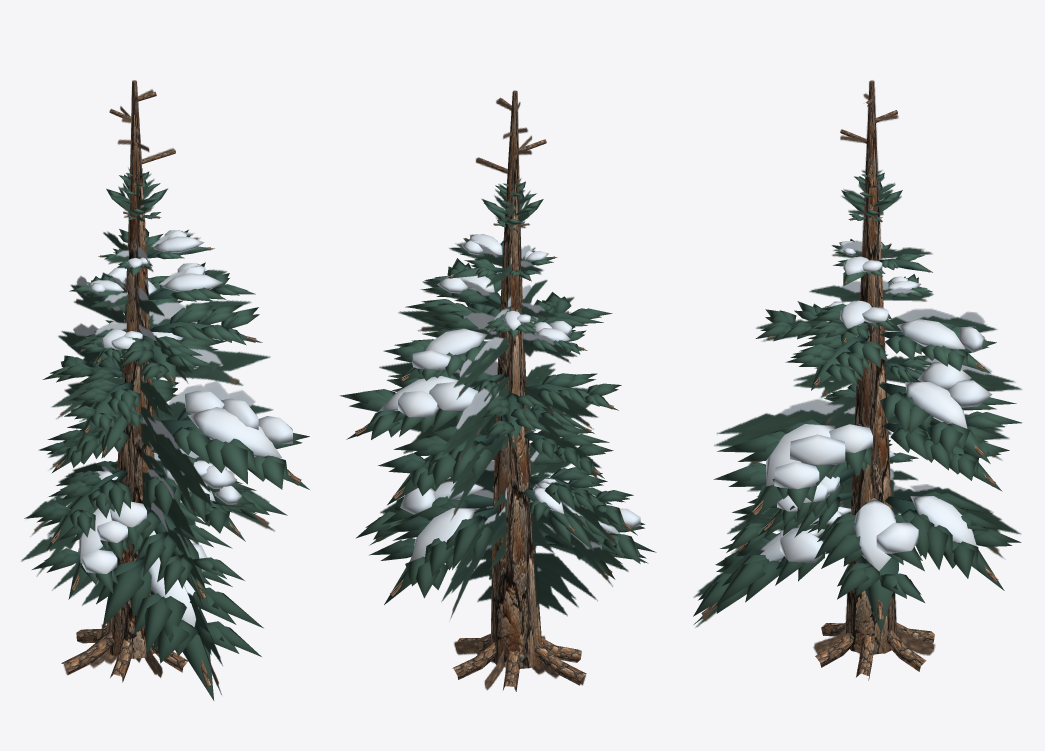
Rendered from tree13.glb.
3 views of the same model, side by side, from view 1: azimuth 30°, elevation 25°; view 2: azimuth 150°, elevation 25°; view 3: azimuth 270°, elevation 25° (orthographic).
Parts seen in each view (by area): view 1: Alpine13_1, Empty.004, Alpine13_2, Alpine13_0; view 2: Alpine13_1, Empty.004, Alpine13_0, Alpine13_2; view 3: Alpine13_1, Alpine13_2, Empty.004, Alpine13_0.
Part boxes in pixels (x1=…): Alpine13_1: x1=24, y1=171, x2=309, y2=700; Empty.004: x1=21, y1=80, x2=274, y2=694; Alpine13_2: x1=78, y1=230, x2=292, y2=627; Alpine13_0: x1=50, y1=80, x2=301, y2=686; Alpine13_1: x1=339, y1=181, x2=656, y2=604; Empty.004: x1=375, y1=91, x2=628, y2=690; Alpine13_0: x1=355, y1=90, x2=638, y2=691; Alpine13_2: x1=379, y1=234, x2=640, y2=561; Alpine13_1: x1=693, y1=172, x2=1022, y2=632; Alpine13_2: x1=760, y1=241, x2=992, y2=570; Empty.004: x1=693, y1=80, x2=1021, y2=655; Alpine13_0: x1=701, y1=80, x2=998, y2=680.
Bounding box in the file's own units: 6.43 × 13.69 × 7.22.
4 materials, 2 textured.
